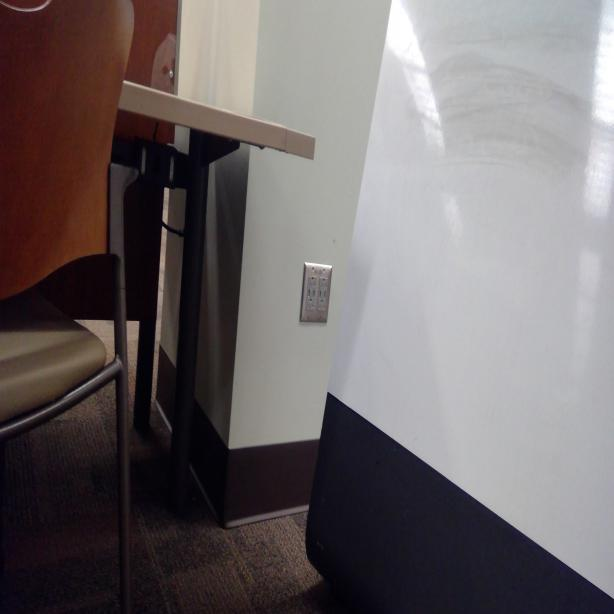typeb: (306, 294, 316, 314), (319, 276, 329, 292), (308, 272, 316, 290), (318, 298, 326, 314)
